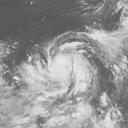cyclone: (29, 31, 99, 101)
